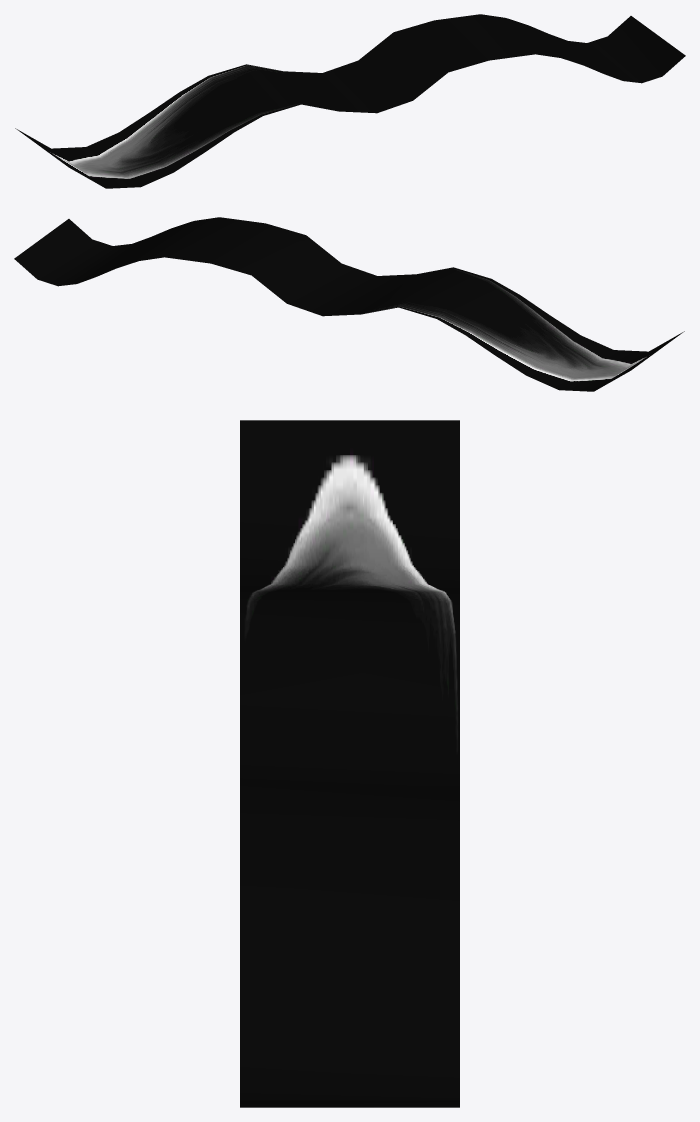
File: 0148_ShaGuYaShou_Mat_SkillD_03.glb
The picture shows the model from 3 angles, top to bottom: view 1: azimuth 30°, elevation 25°; view 2: azimuth 150°, elevation 25°; view 3: azimuth 270°, elevation 25°; orthographic projection. The views are drawn at different scales.
Bounding box in the file's own units: 2.2 × 0.2107 × 0.3392.
Materials: 1 (1 with a texture image).
